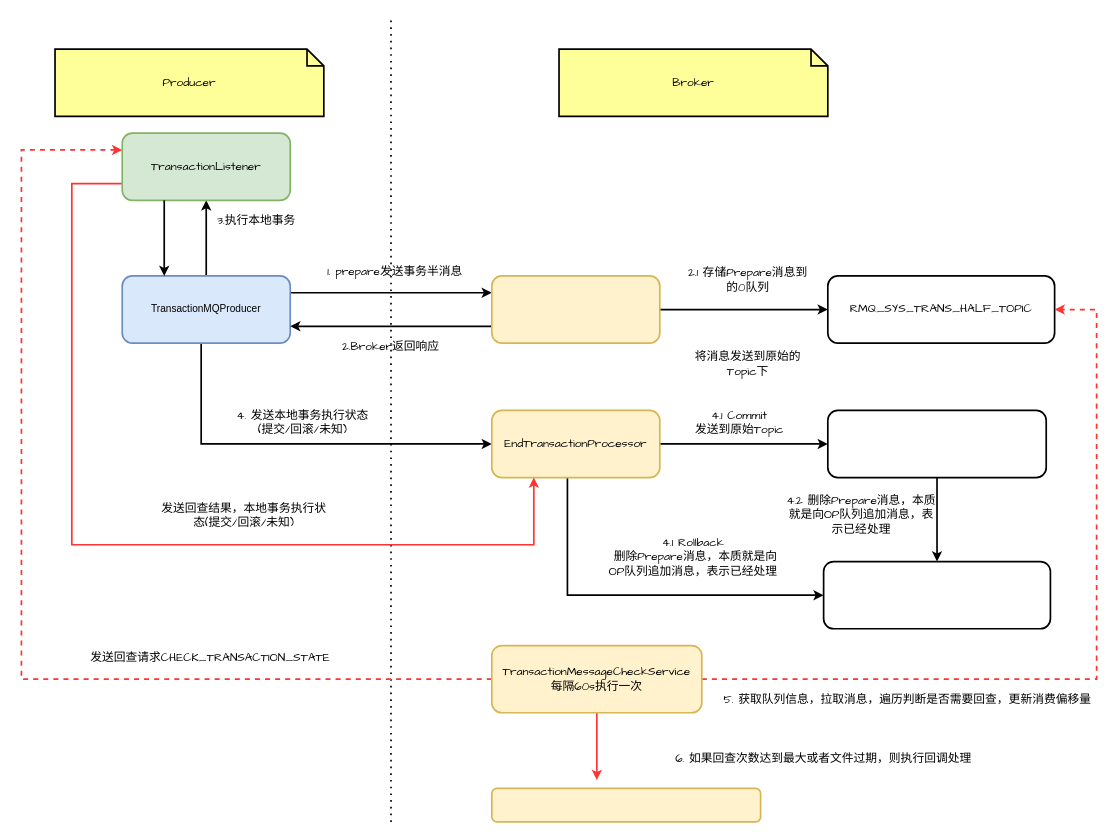
The diagram is 1118 pixels wide and 837 high, and some of its shapes have lost their labels. Here are the shapes that lost their labels. From the top down, the box of each, then its label:
(491, 275, 660, 344): SendMessageProcessor
(827, 409, 1047, 478): 消息原来的Topic
(822, 560, 1051, 629): RMQ_SYS_TRANS_OP_HALF_TOPIC
(491, 787, 761, 822): AbstractTransactionalMessageCheckListener
